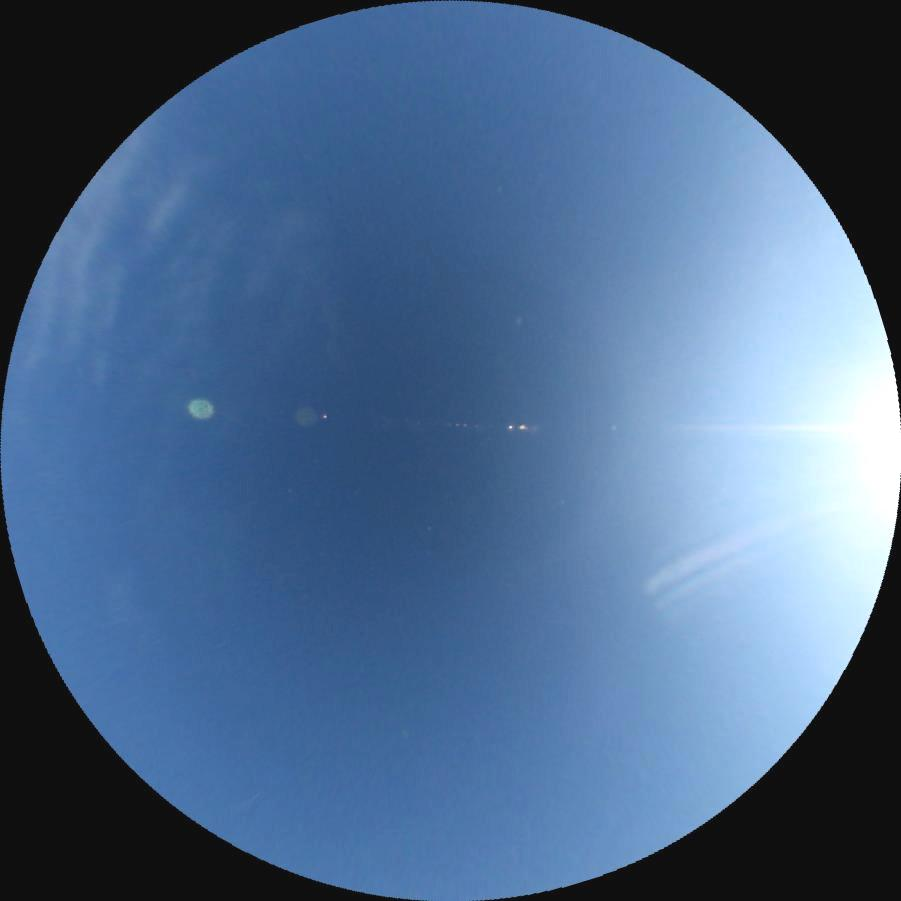contrail young: (240, 787, 264, 807)
parasite: (637, 513, 784, 594), (676, 422, 851, 431)
